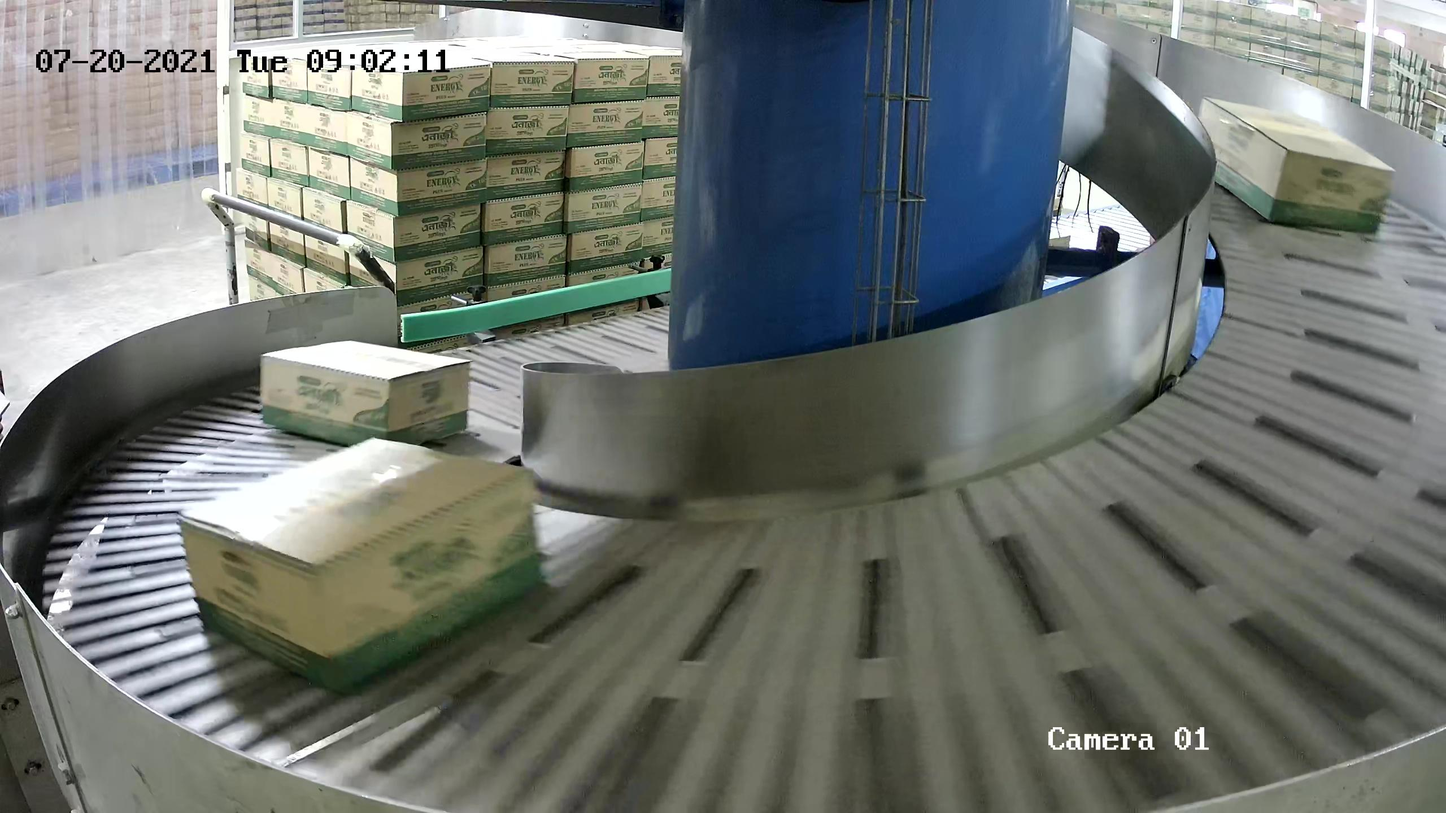Box: (176, 435, 547, 692), (1196, 95, 1397, 233), (258, 339, 474, 446)
